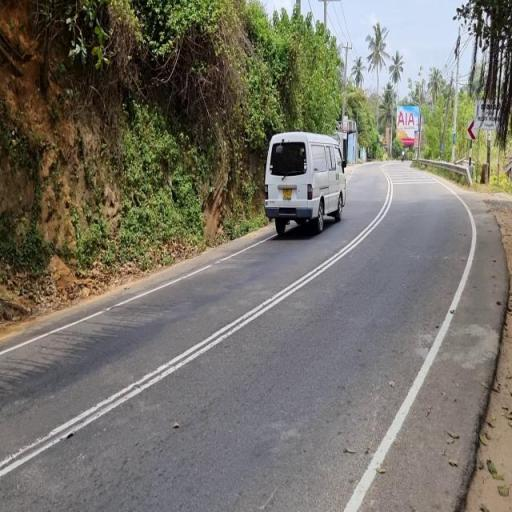double_white_line: (0, 166, 392, 486)
